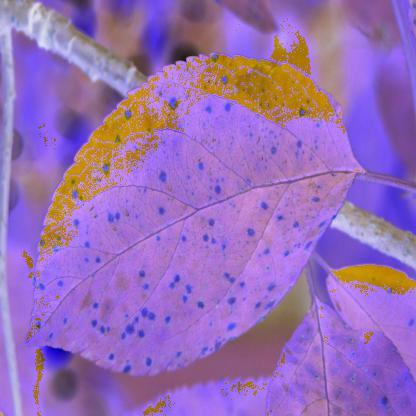Apple rust leaf: (24, 47, 378, 384)
